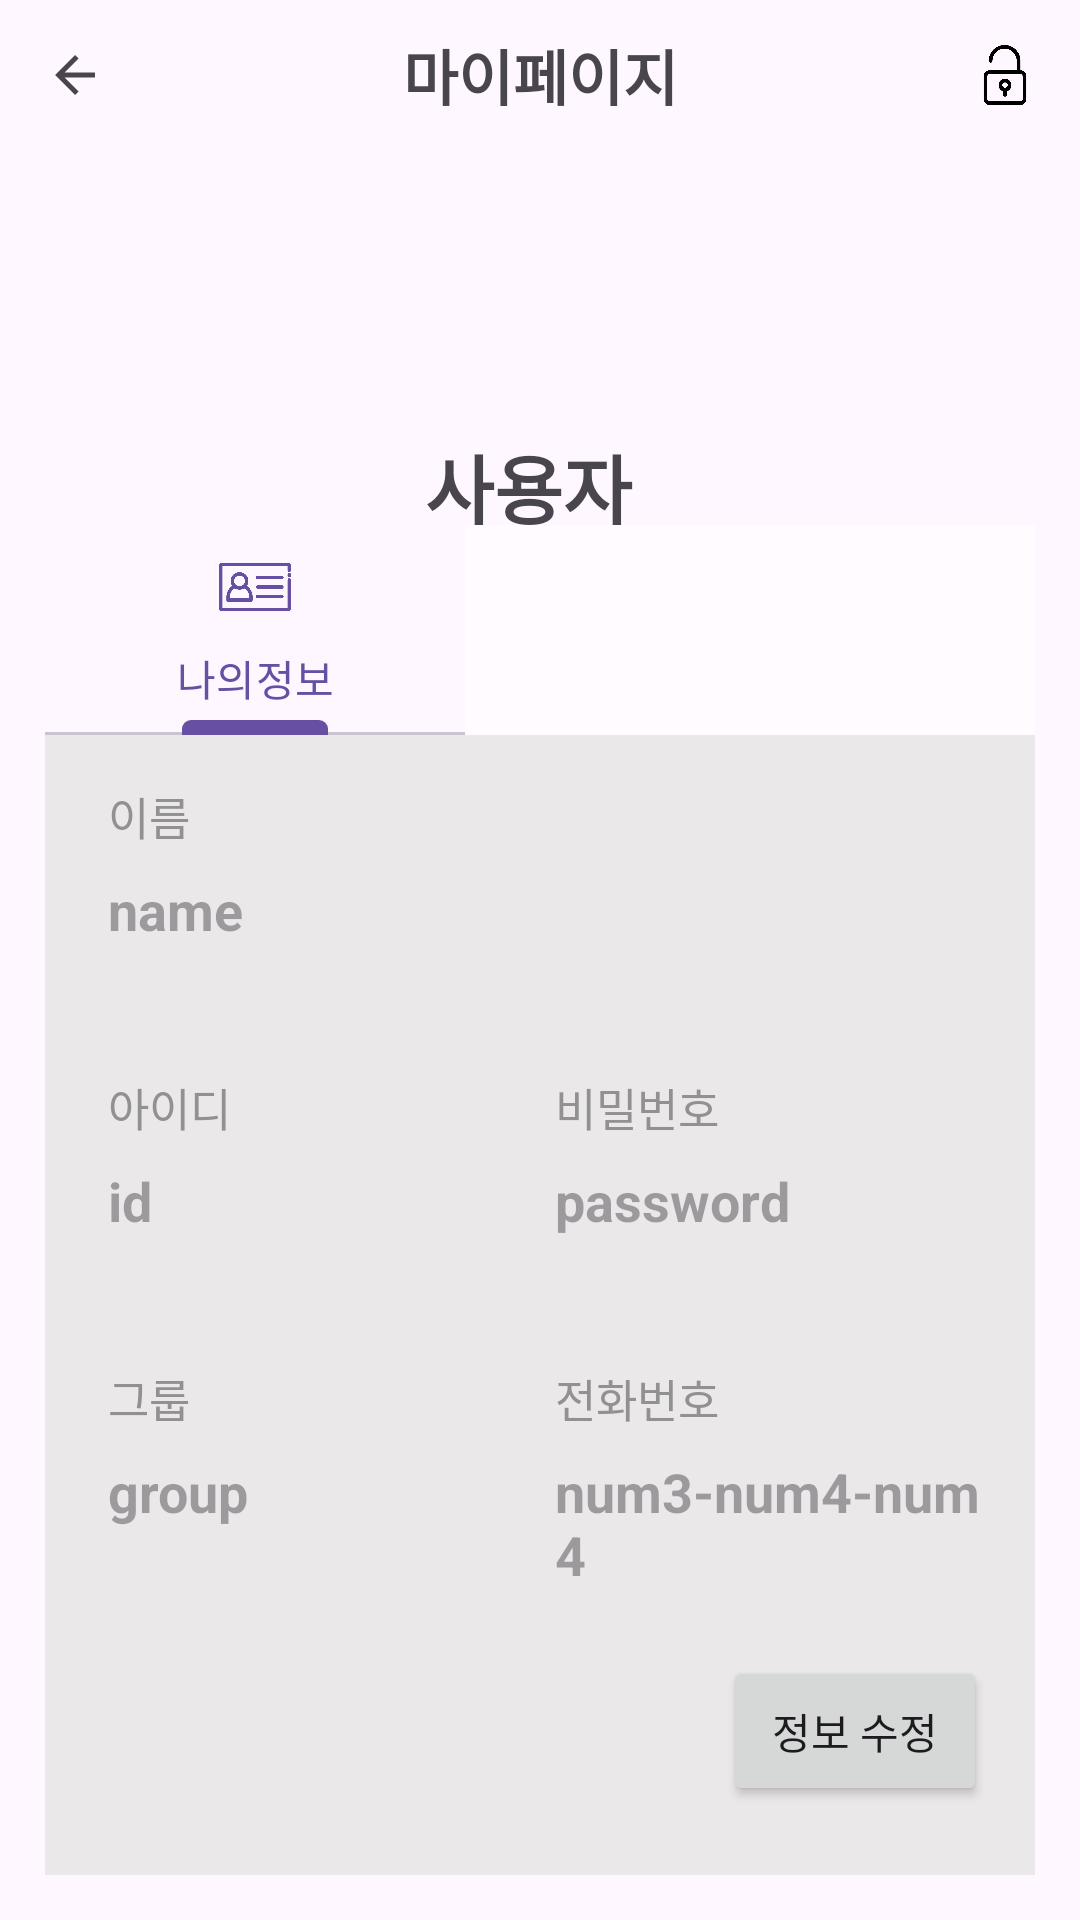

Icons on this 1080*1920 Android screen, each with the point to tap as (x,y):
unlocked: (1005,75)
